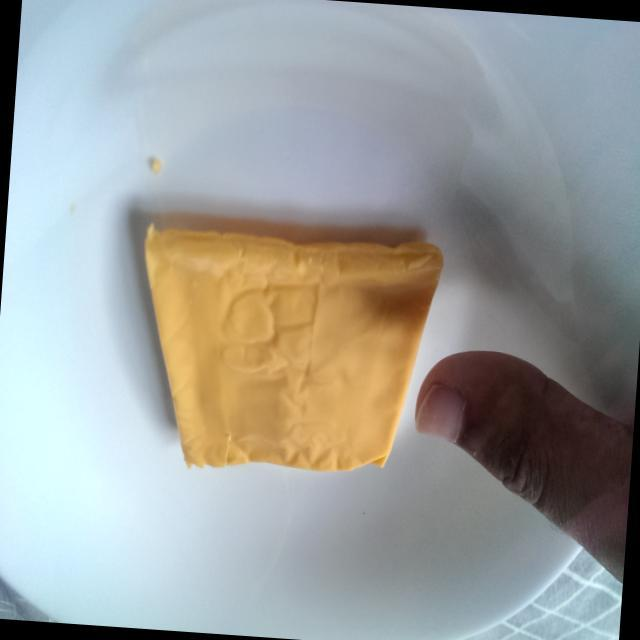Cheese: (120, 192, 448, 502)
Finger: (402, 337, 569, 538)
